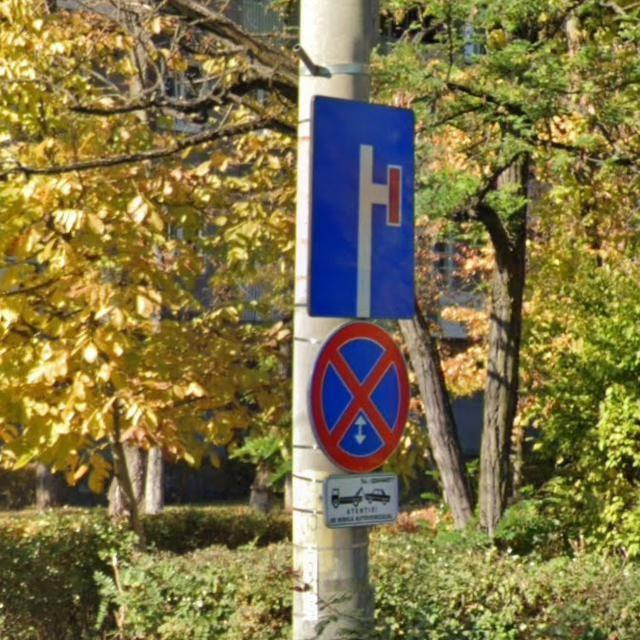forb_waiting: (312, 320, 409, 474)
